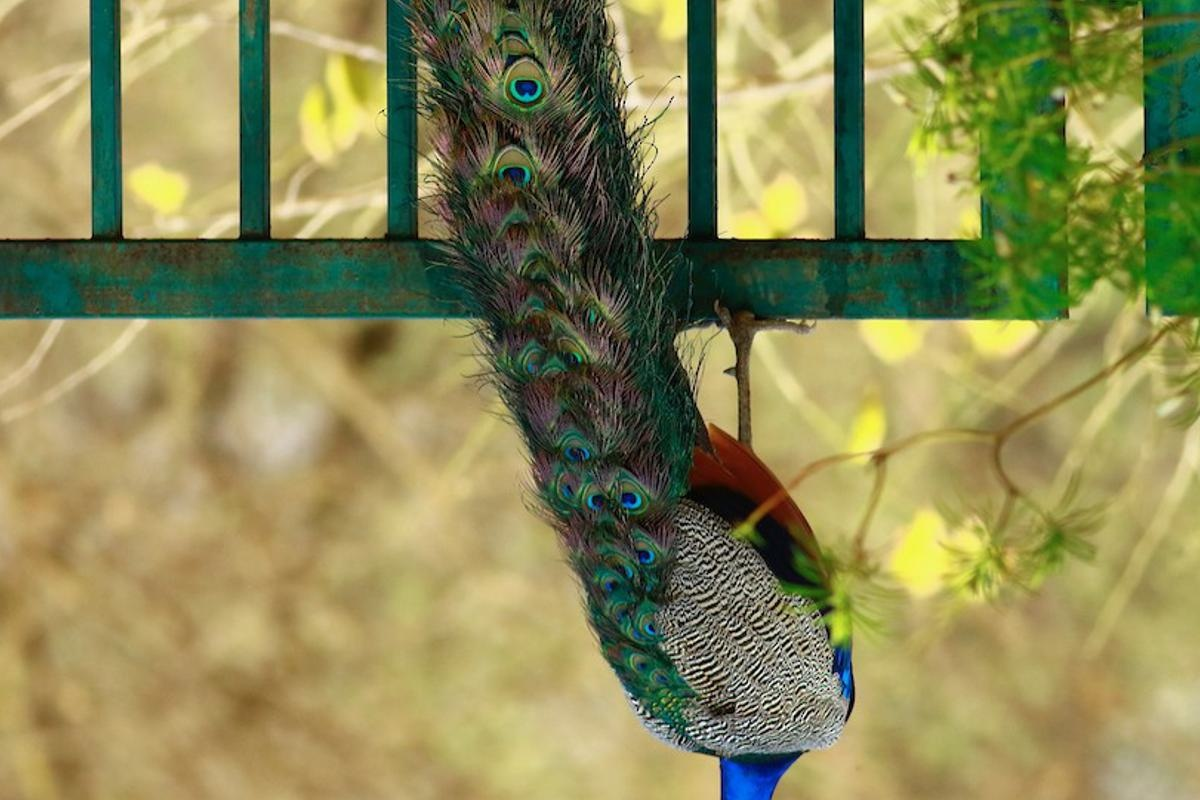peacock: (387, 1, 841, 762)
